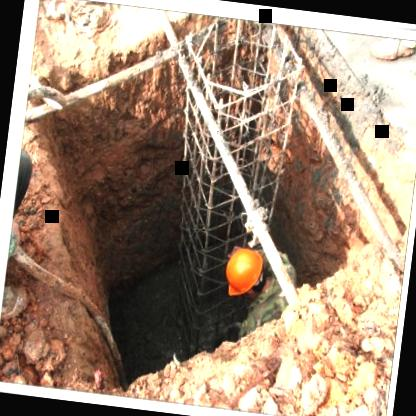helmet: (220, 242, 277, 306)
